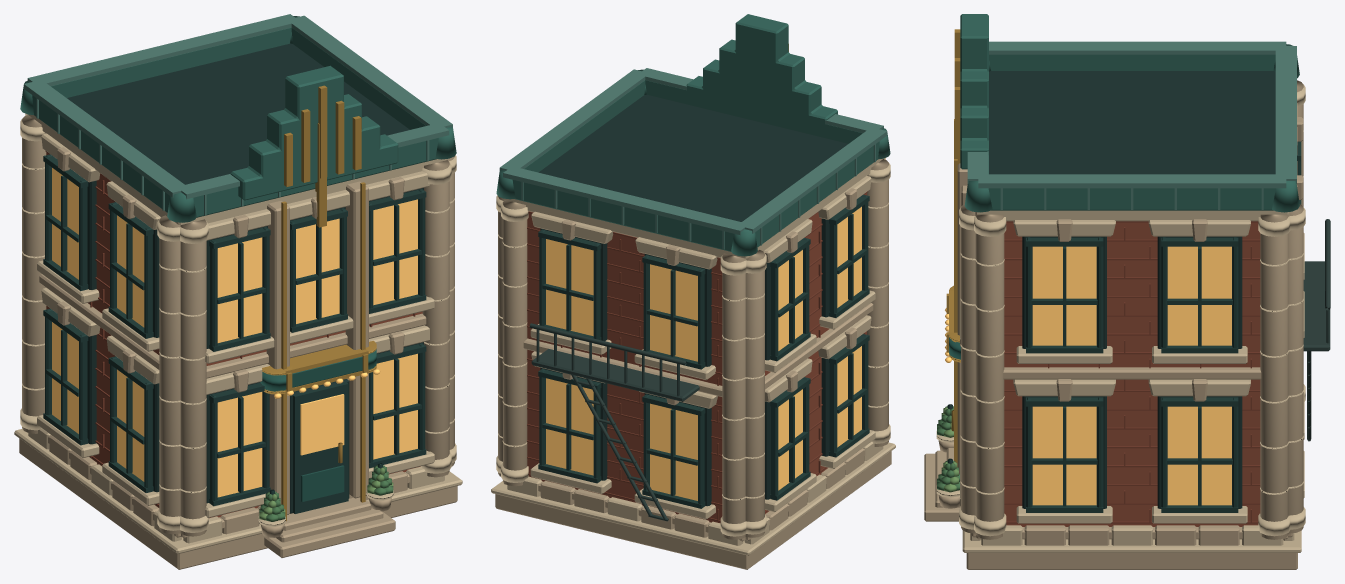
3 renders of one model, left to right at view 1: azimuth 30°, elevation 25°; view 2: azimuth 150°, elevation 25°; view 3: azimuth 270°, elevation 25°, orthographic. The views are drawn at different scales.
Parts seen in each view (by area): view 1: expansion_tower_2_geometry; view 2: expansion_tower_2_geometry; view 3: expansion_tower_2_geometry.
Part boxes in pixels (x1=…): expansion_tower_2_geometry: x1=14, y1=14, x2=462, y2=569; expansion_tower_2_geometry: x1=491, y1=14, x2=895, y2=569; expansion_tower_2_geometry: x1=924, y1=14, x2=1330, y2=569.
Size of the model in its own units: 0.7813 by 1.16 by 0.8997.
